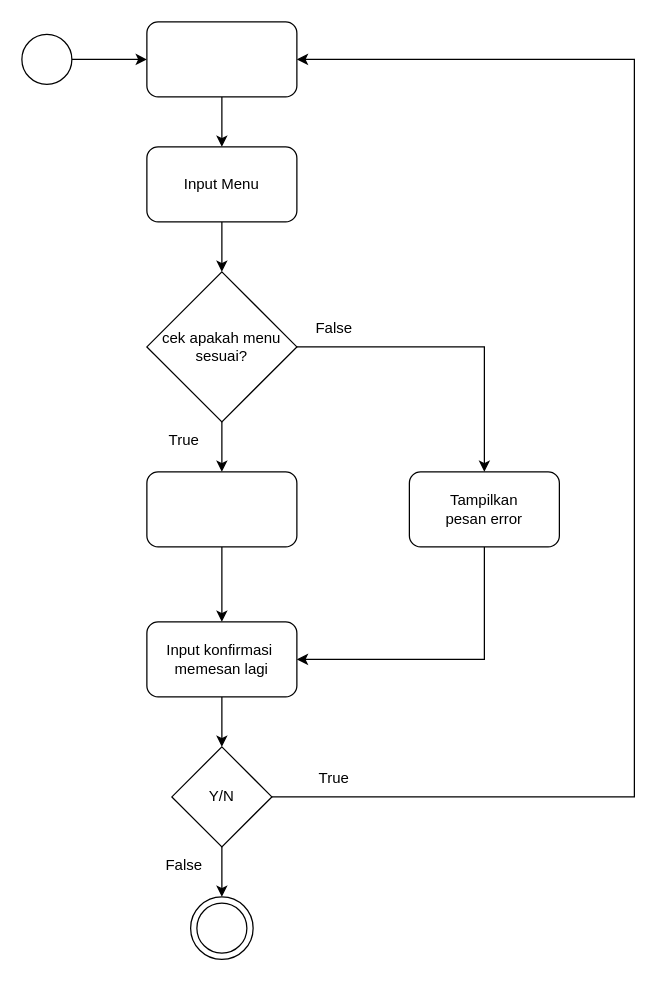
Image size: 666x981. Some labels were removed from this diagram. The shapes that lost their labels are listed below. From the top down, each one's centre as x and y in pixels, then its label:
the point at 221,59: Menampilkan Menu
the point at 221,509: Tampilkan Harga
